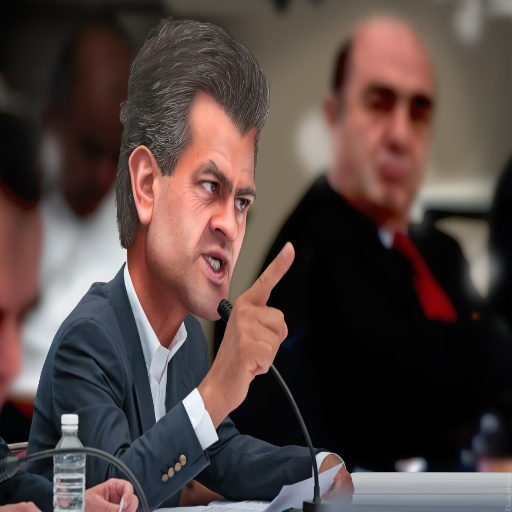hand: (215, 243, 295, 416), (79, 474, 139, 511), (317, 454, 354, 507), (0, 501, 43, 511)
